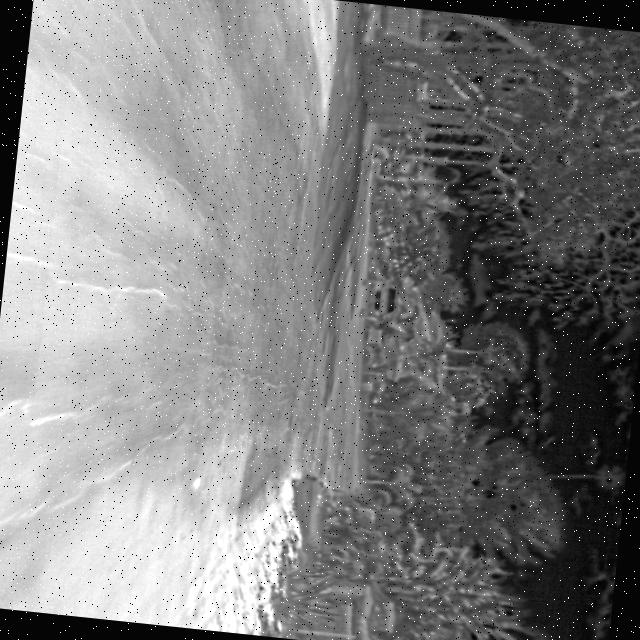Vehicle: (354, 274, 401, 324)
